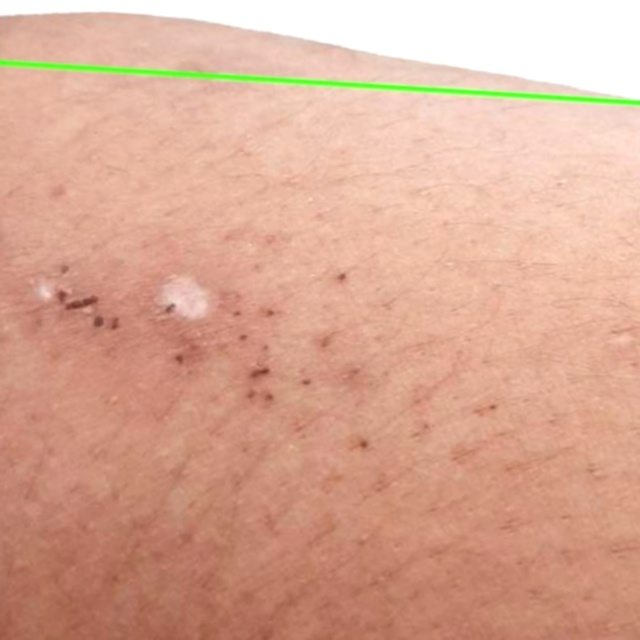Scabies: (0, 0, 639, 102)
